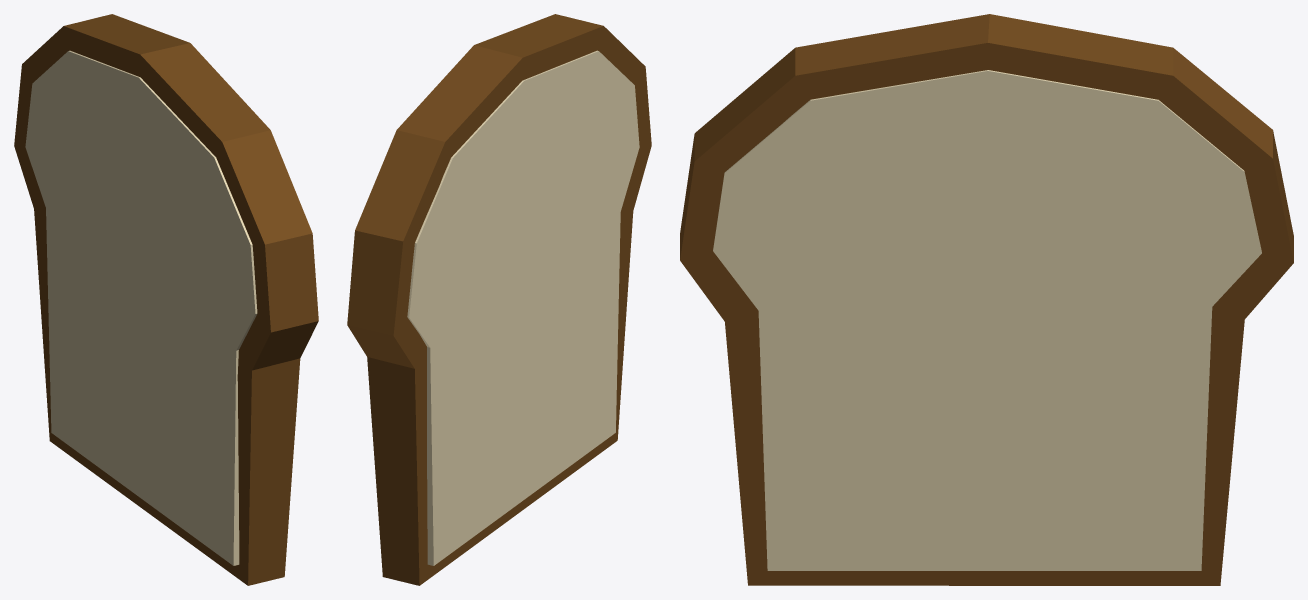
Rendered from Slice.fbx.
3 renders of one model, left to right at view 1: azimuth 30°, elevation 25°; view 2: azimuth 150°, elevation 25°; view 3: azimuth 270°, elevation 25°, orthographic. The views are drawn at different scales.
Parts seen in each view (by area): view 1: BreadSlice; view 2: BreadSlice; view 3: BreadSlice.
Part boxes in pixels (<box>): BreadSlice: <box>14,14,318,585</box>; BreadSlice: <box>347,14,651,585</box>; BreadSlice: <box>680,14,1293,585</box>.
Size of the model in its own units: 1.08 by 9.06 by 9.22.
